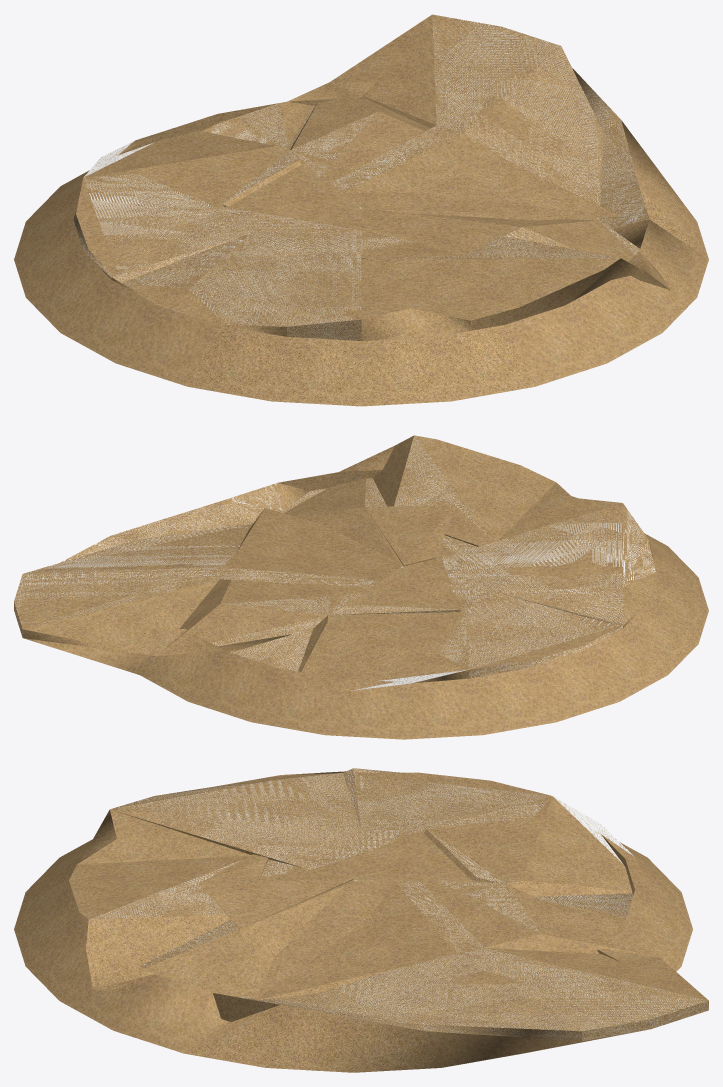
File: sand.dae
The picture shows the model from 3 angles, top to bottom: view 1: azimuth 30°, elevation 25°; view 2: azimuth 150°, elevation 25°; view 3: azimuth 270°, elevation 25°; orthographic projection. The views are drawn at different scales.
Parts seen in each view (by area): view 1: SketchUp (×8); view 2: SketchUp (×10); view 3: SketchUp (×10).
Part boxes in pixels (left/top/right/bottom): SketchUp (×8): left=14, top=14, right=708, bottom=406; SketchUp (×10): left=14, top=435, right=708, bottom=739; SketchUp (×10): left=14, top=768, right=708, bottom=1072.
Size of the model in its own units: 177 by 176 by 25.13.
2 materials, 1 textured.
